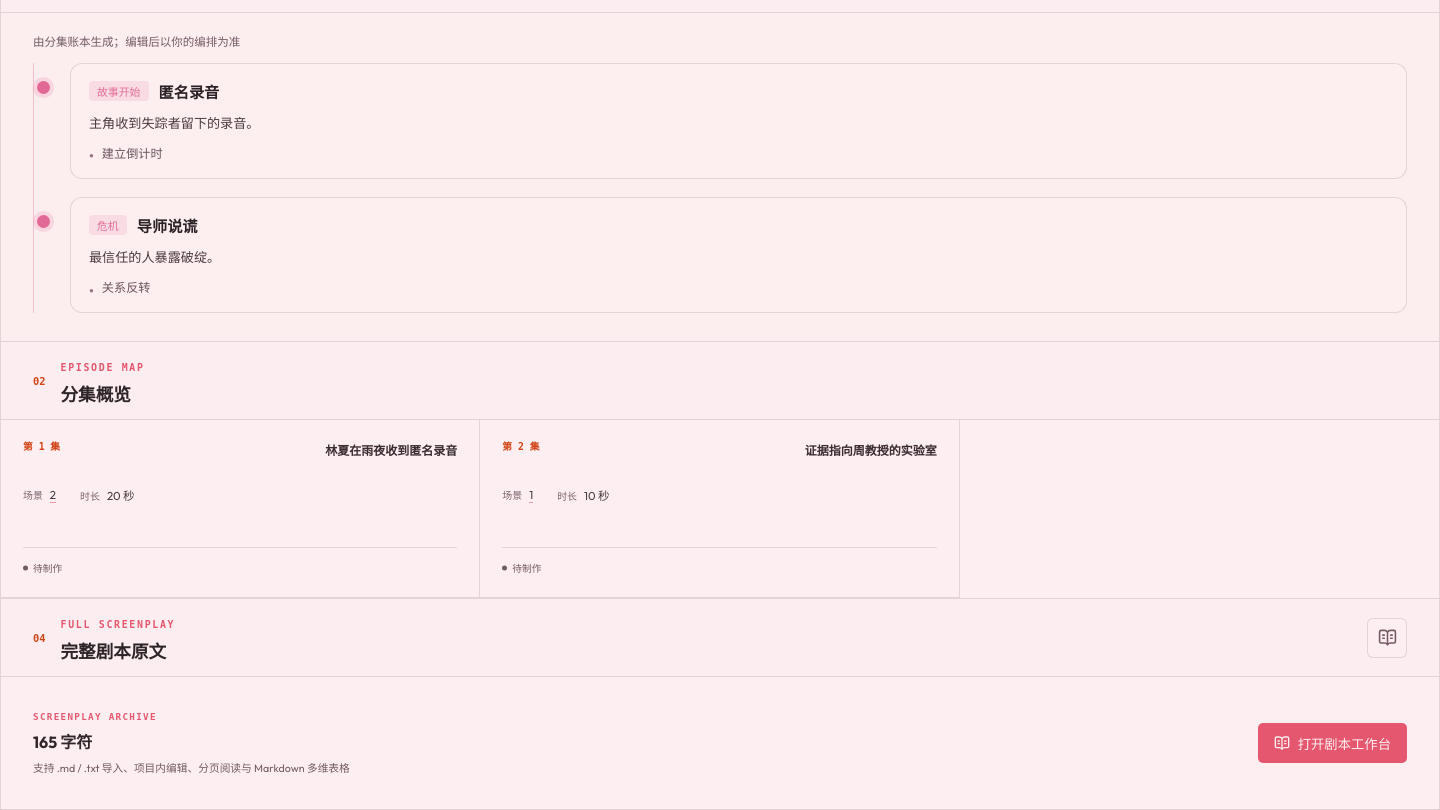
Test case: WriterAgentPage › renders Markdown pipe tables as semantic horizontally scrollable multidimensional tables
This screenshot has width=1440, height=810.
(page scrolled)
Click the button named "分页阅读完整剧本": (1387, 638) left=1367, top=618, right=1407, bottom=658
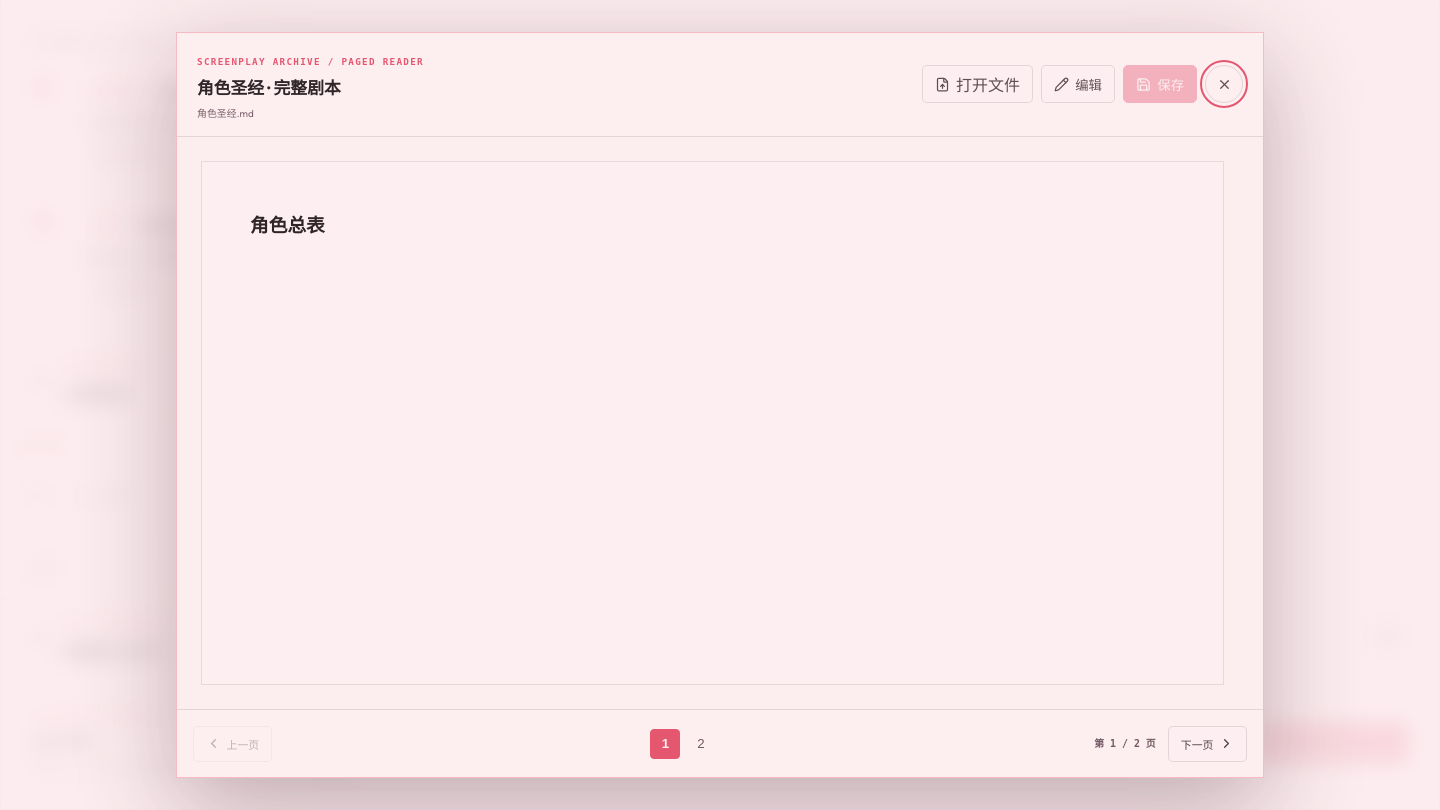
Click the button "下一页": (1207, 744) left=1168, top=726, right=1247, bottom=762
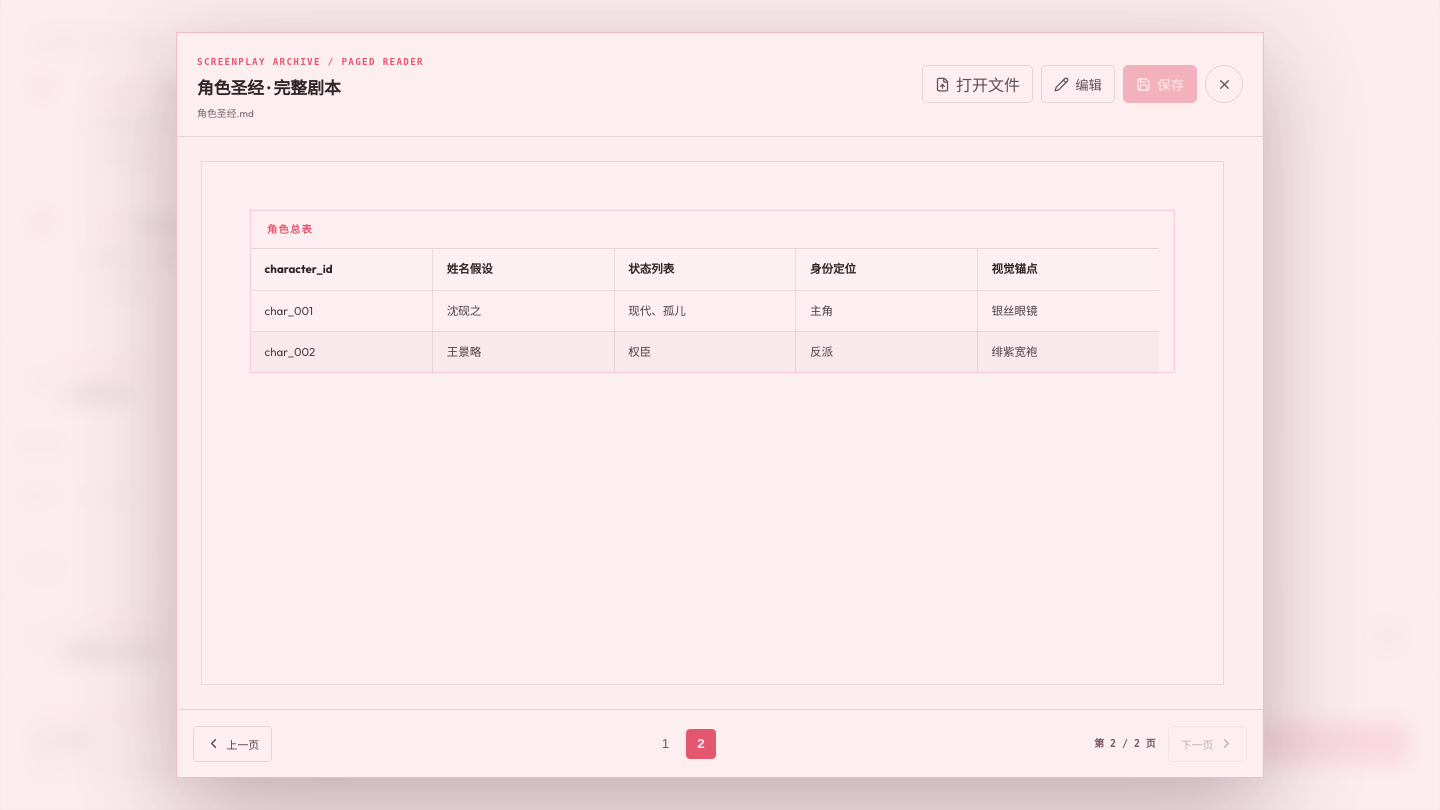
Check: the element "角色总表" is shown, box left=250, top=210, right=1175, bottom=373
Check: the column heading "character_id" is shown, box left=251, top=249, right=433, bottom=290
Check: the cell "沈砚之" is shown, box left=433, top=290, right=614, bottom=331
